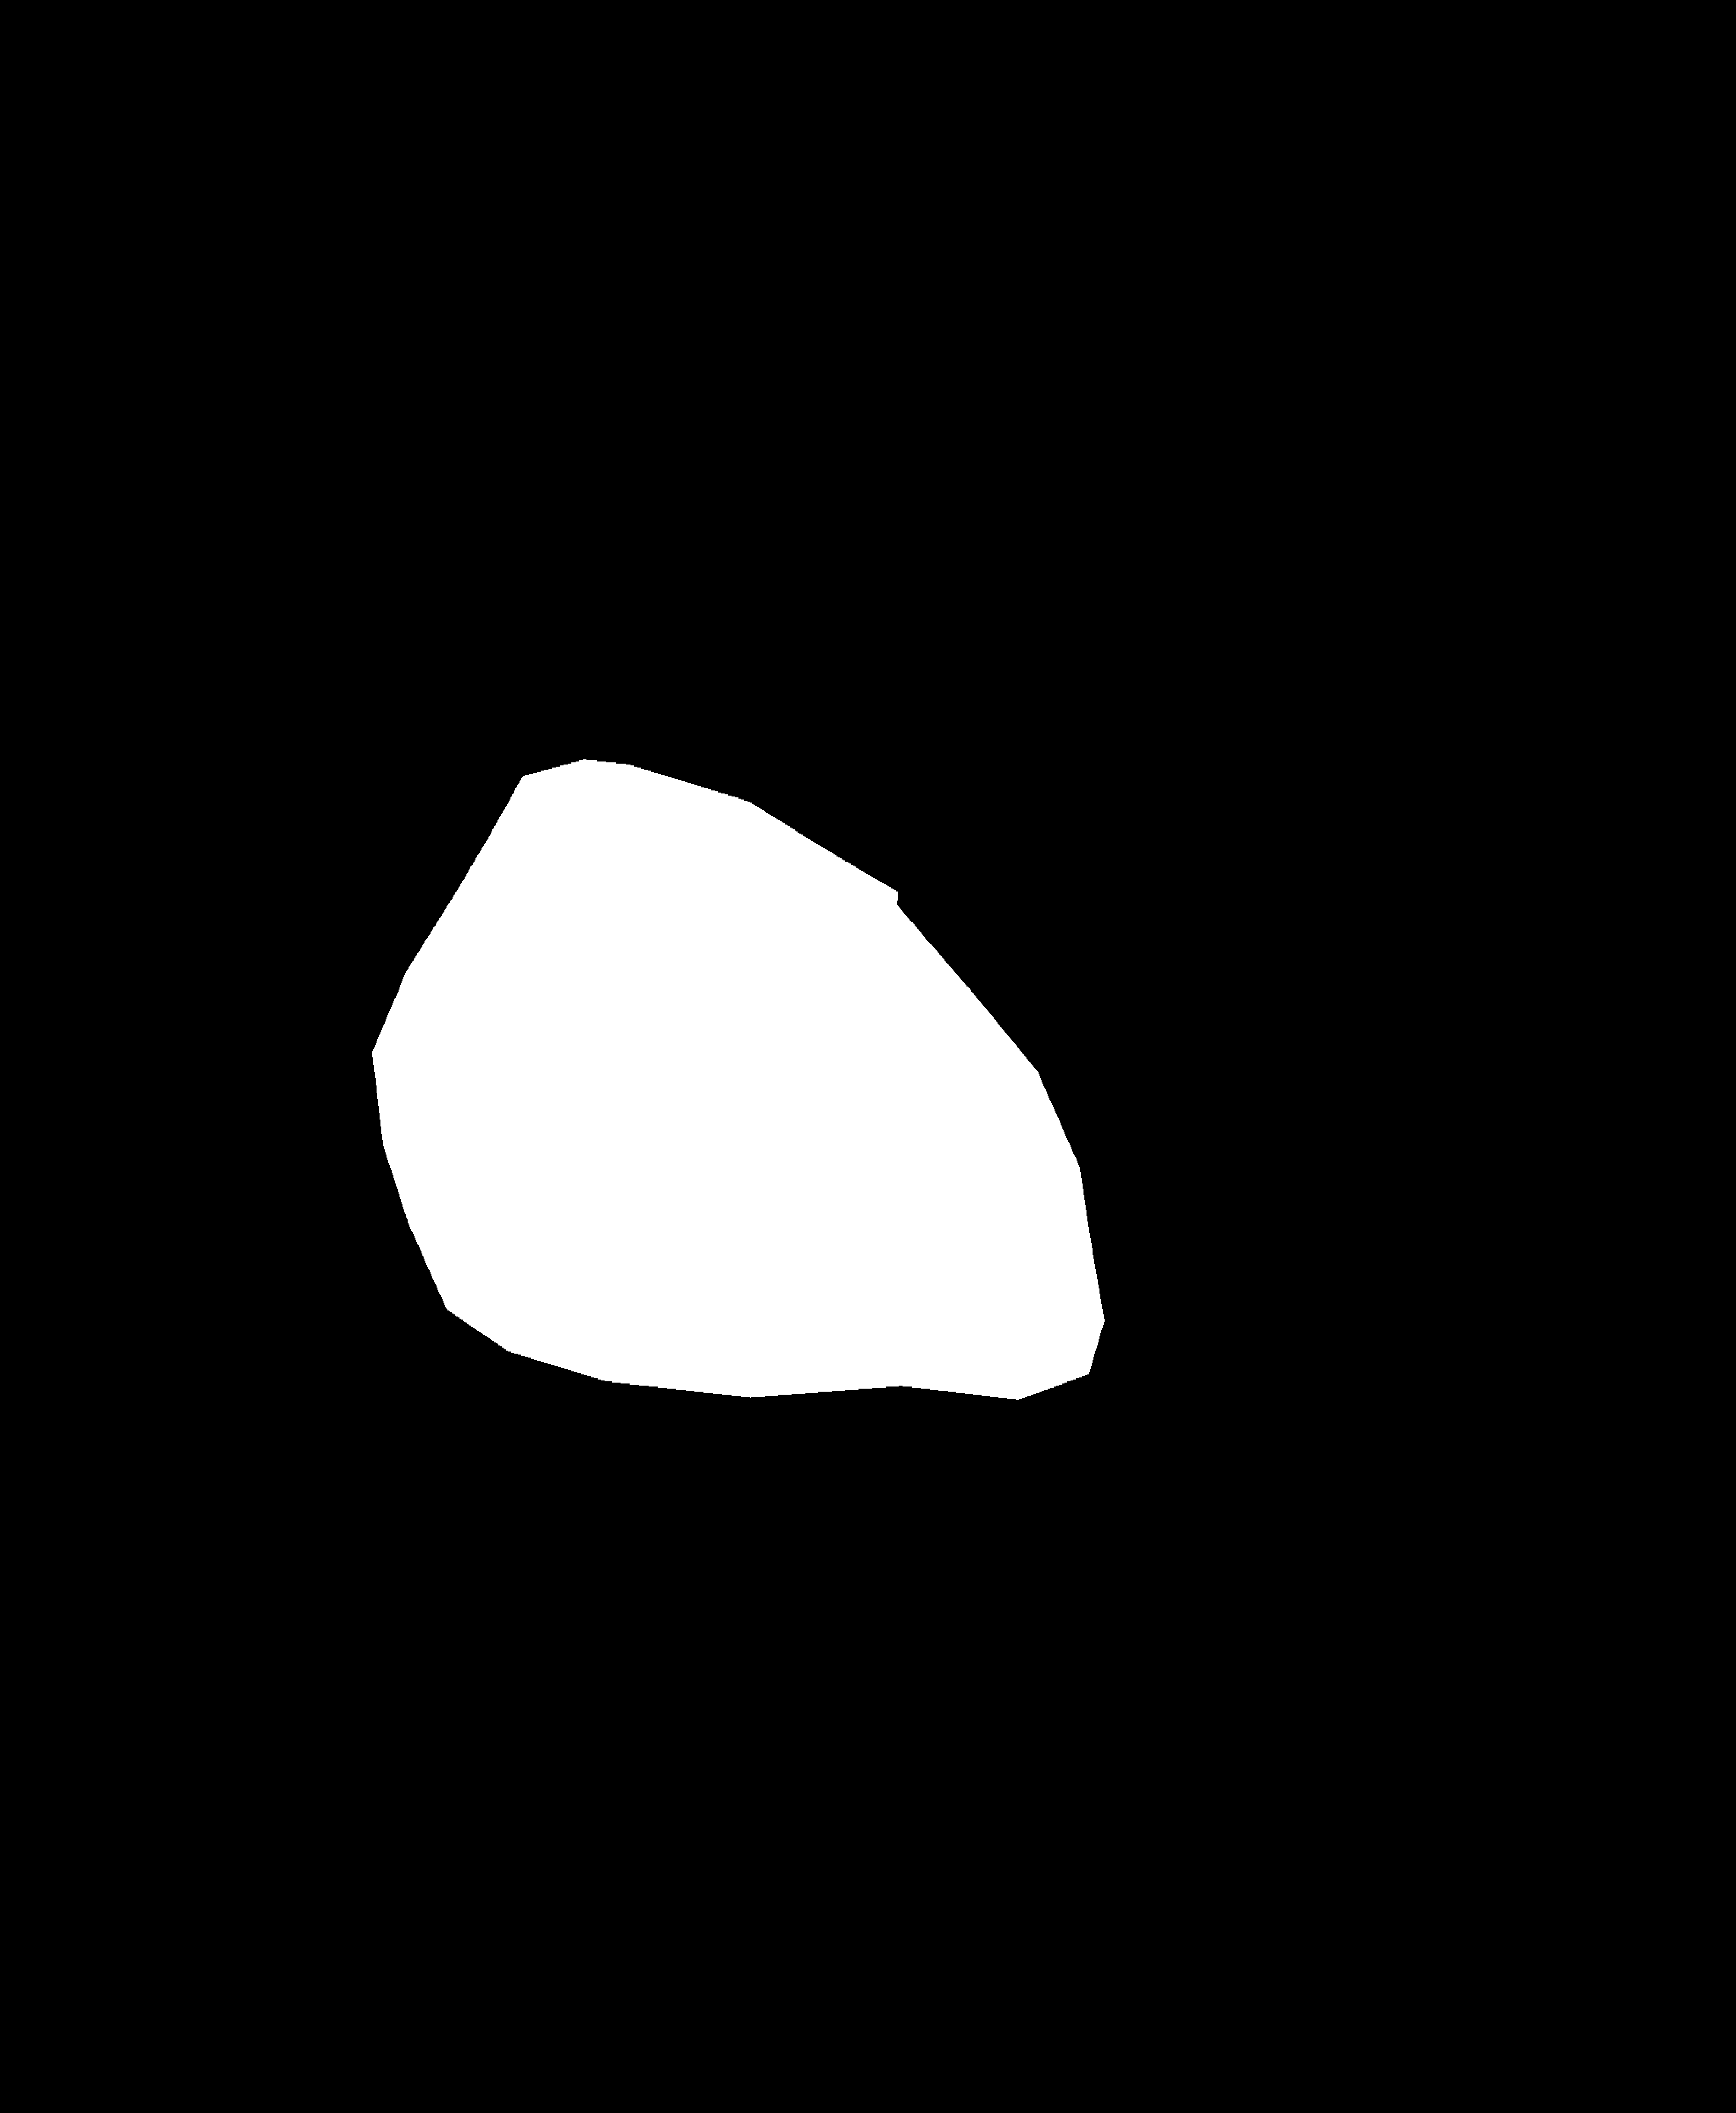heart: (551, 902, 1113, 1490)
left_lung: (119, 346, 699, 1515)
right_lung: (837, 330, 1499, 1629)
